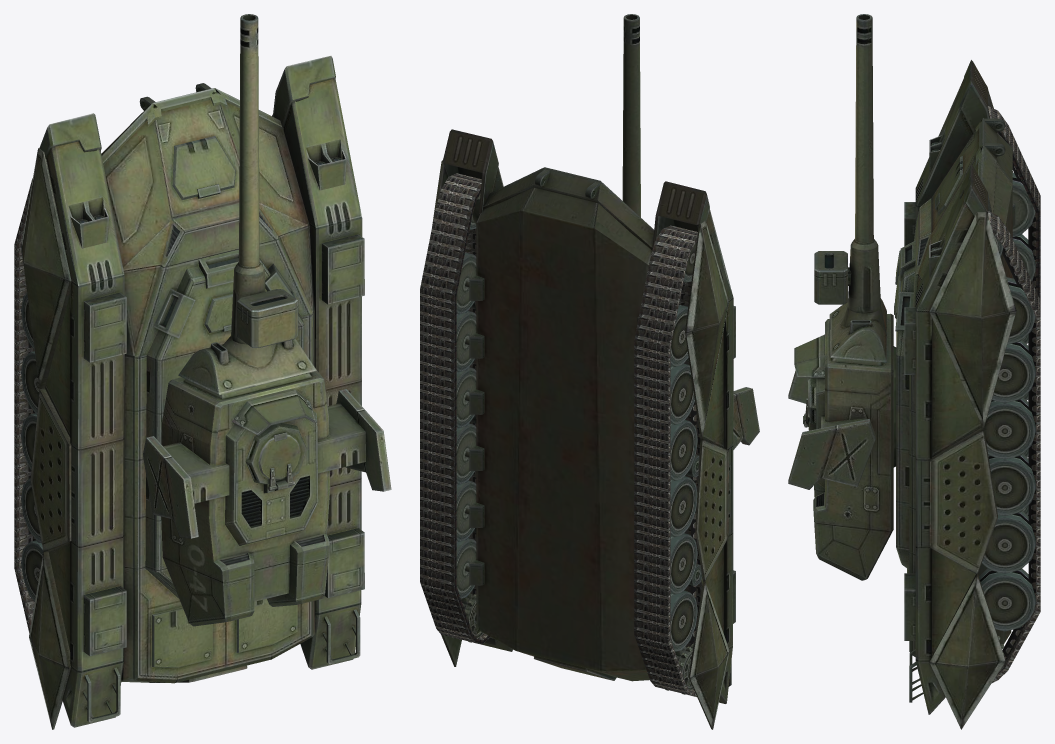
3 renders of one model, left to right at view 1: azimuth 30°, elevation 25°; view 2: azimuth 150°, elevation 25°; view 3: azimuth 270°, elevation 25°, orthographic. The views are drawn at different scales.
Parts seen in each view (by area): view 1: hull, turret_01, gun_01, chassis_track_L, chassis_wheel_L_07, chassis_wheel_L_04, chassis_wheel_L_06, chassis_wheel_L_05; view 2: hull, chassis_track_L, chassis_track_R, gun_01, chassis_wheel_L_06, chassis_wheel_L_04, chassis_wheel_L_05, chassis_wheel_L_07, turret_01, chassis_wheel_L_03, chassis_wheel_R_03, chassis_wheel_R_06 (+5 smaller); view 3: hull, turret_01, gun_01, chassis_track_R, chassis_wheel_R_07, chassis_wheel_R_04, chassis_wheel_R_06, chassis_wheel_R_05, chassis_wheel_R_03, chassis_track_L, chassis_wheel_R_02, chassis_wheel_L_02 (+1 smaller).
Boxes of the visible parts, box(x1,y1,x2,y2) form: hull: box(21, 56, 364, 729); turret_01: box(143, 371, 391, 626); gun_01: box(178, 14, 317, 395); chassis_track_L: box(14, 178, 35, 632); chassis_wheel_L_07: box(21, 540, 43, 601); chassis_wheel_L_04: box(21, 351, 39, 414); chassis_wheel_L_06: box(21, 478, 41, 543); chassis_wheel_L_05: box(21, 413, 36, 470); hull: box(432, 129, 735, 729); chassis_track_L: box(634, 225, 702, 696); chassis_track_R: box(420, 173, 490, 644); gun_01: box(622, 14, 640, 217); chassis_wheel_L_06: box(670, 533, 697, 594); chassis_wheel_L_04: box(670, 420, 697, 480); chassis_wheel_L_05: box(670, 476, 697, 537); chassis_wheel_L_07: box(670, 591, 697, 651); turret_01: box(733, 387, 759, 449); chassis_wheel_L_03: box(670, 363, 694, 424); chassis_wheel_R_03: box(456, 311, 476, 372); chassis_wheel_R_06: box(456, 480, 476, 541); hull: box(894, 60, 1016, 729); turret_01: box(788, 313, 896, 580); gun_01: box(814, 14, 887, 362); chassis_track_R: box(987, 211, 1040, 682); chassis_wheel_R_07: box(978, 568, 1035, 631); chassis_wheel_R_04: box(984, 397, 1035, 459); chassis_wheel_R_06: box(982, 511, 1035, 573); chassis_wheel_R_05: box(988, 454, 1035, 515); chassis_wheel_R_03: box(992, 340, 1035, 403); chassis_track_L: box(988, 106, 1040, 515); chassis_wheel_R_02: box(1006, 277, 1035, 344); chassis_wheel_L_02: box(1012, 172, 1035, 236).
Size of the model in its own units: 3.63 by 7.69 by 2.71.
2 materials, 2 textured.
